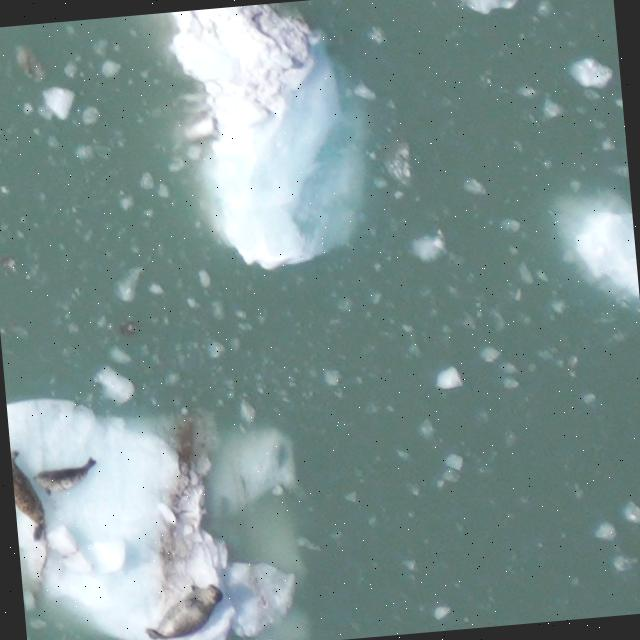seal: (139, 576, 229, 640), (10, 444, 54, 546), (29, 453, 102, 499)
